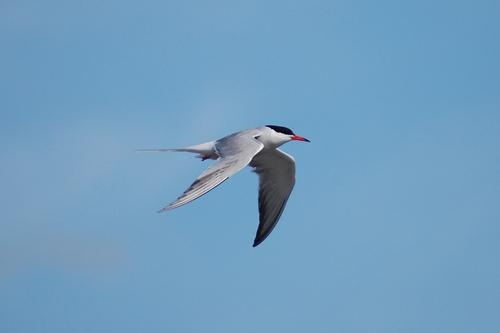bird: (139, 124, 315, 243)
